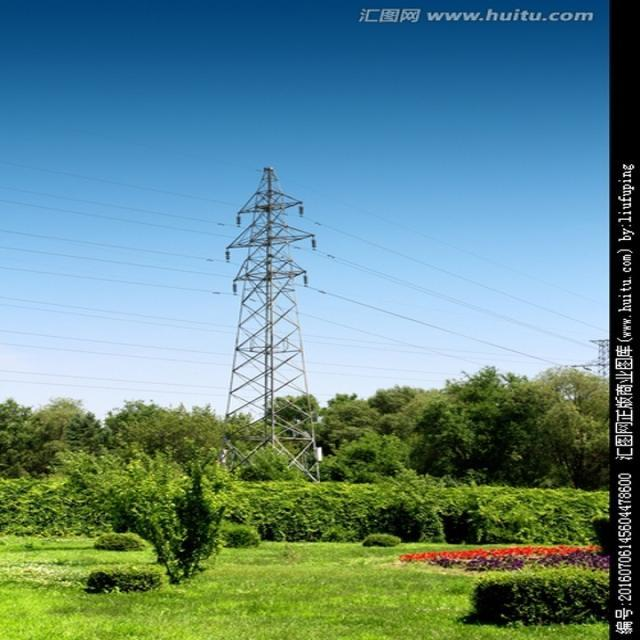utility poles: (222, 158, 342, 487)
